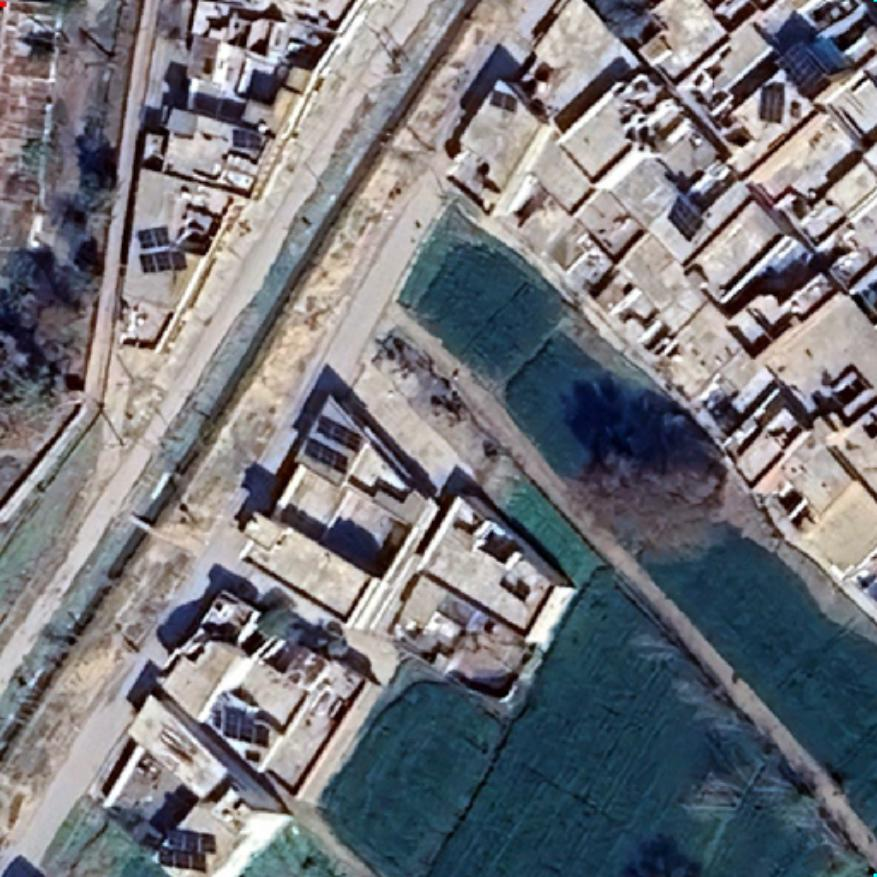Solarpanel: (774, 44, 832, 102), (157, 826, 217, 874), (313, 412, 363, 450), (299, 434, 345, 473), (136, 245, 190, 276), (667, 196, 705, 239), (220, 705, 258, 743), (134, 222, 174, 251), (758, 81, 785, 122)
